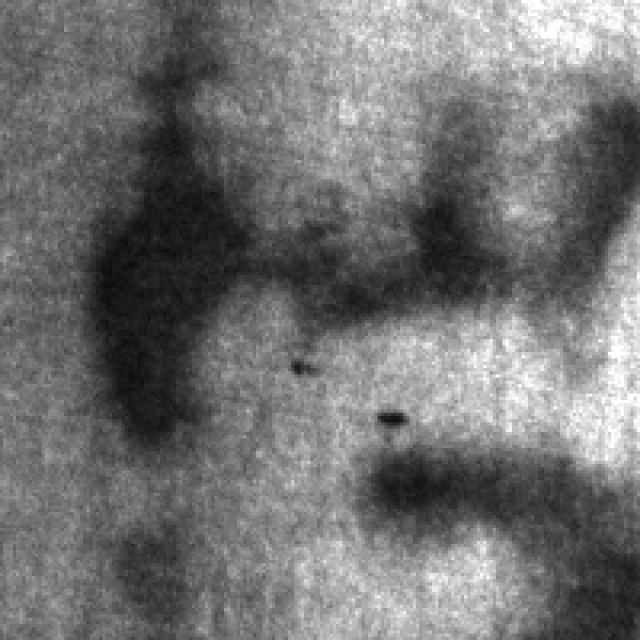patches: (93, 45, 250, 438), (365, 438, 640, 637), (269, 141, 518, 323), (531, 87, 640, 310)
